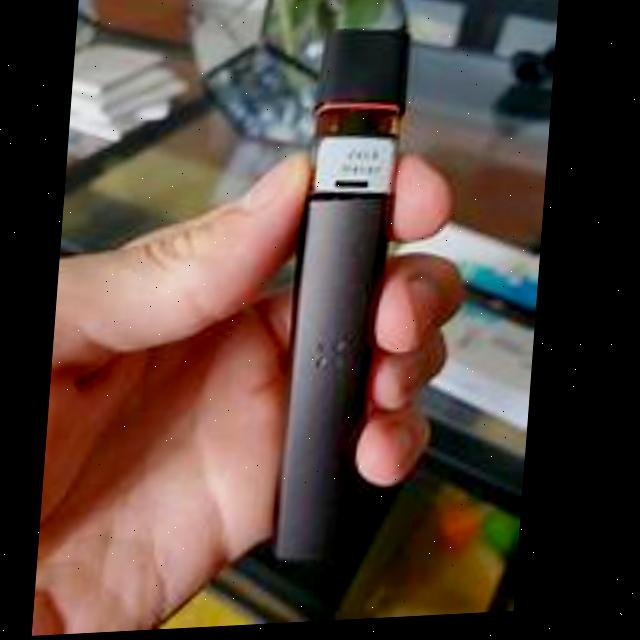vape: (279, 27, 414, 579)
